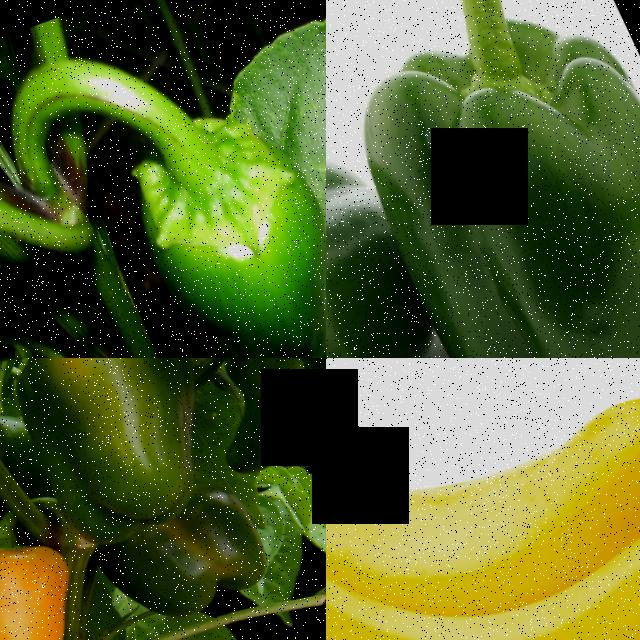banana: (326, 358, 640, 640)
bell pepper: (326, 0, 640, 358), (120, 69, 326, 358), (5, 358, 254, 569), (326, 107, 483, 358), (110, 478, 293, 640), (0, 471, 106, 640)
